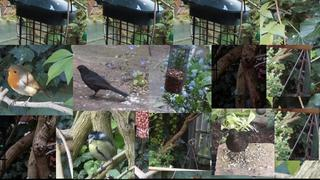blackbird: (74, 65, 129, 100), (225, 128, 254, 165)
blue tit: (86, 131, 116, 171)
robin: (4, 65, 53, 109)
